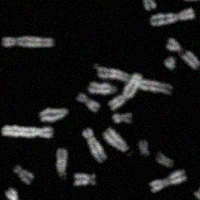chromosome: (95, 66, 172, 93), (110, 73, 140, 112), (148, 168, 185, 194), (0, 34, 51, 50), (0, 124, 54, 138), (151, 9, 195, 26), (83, 128, 105, 161), (101, 129, 129, 154), (9, 165, 34, 186), (76, 92, 99, 113), (40, 106, 69, 122), (54, 149, 69, 179), (87, 81, 115, 95), (154, 152, 173, 171), (74, 172, 95, 189), (110, 111, 133, 125), (182, 51, 200, 68), (129, 0, 156, 11), (165, 39, 184, 52), (184, 0, 200, 15), (137, 139, 150, 157), (0, 189, 20, 200), (162, 58, 176, 72), (194, 189, 200, 200)
